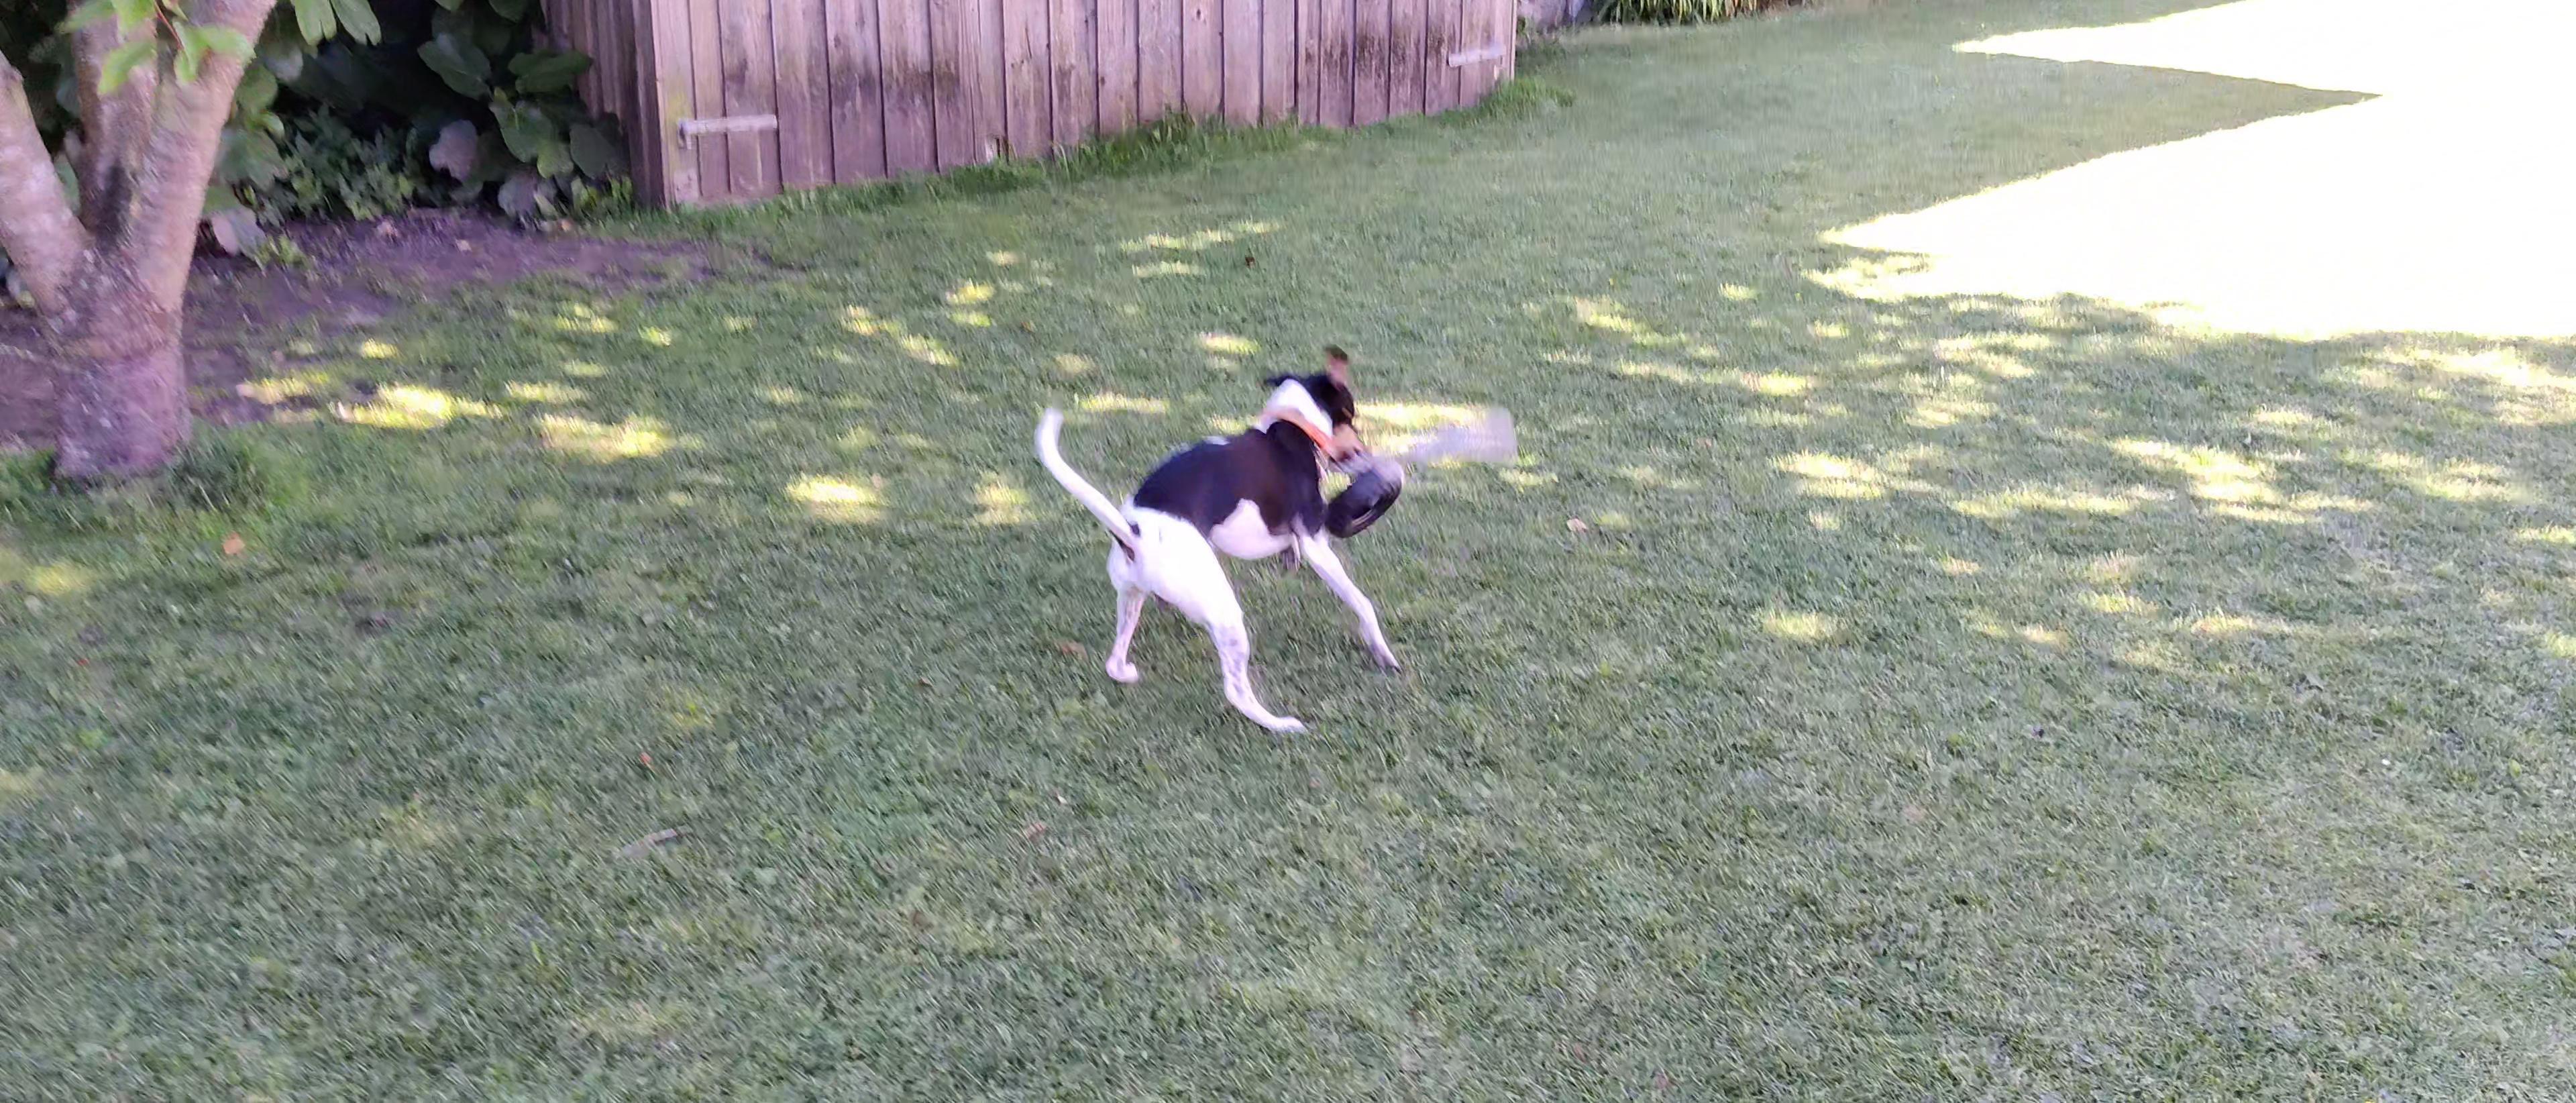Dog: (1032, 344, 1403, 738)
